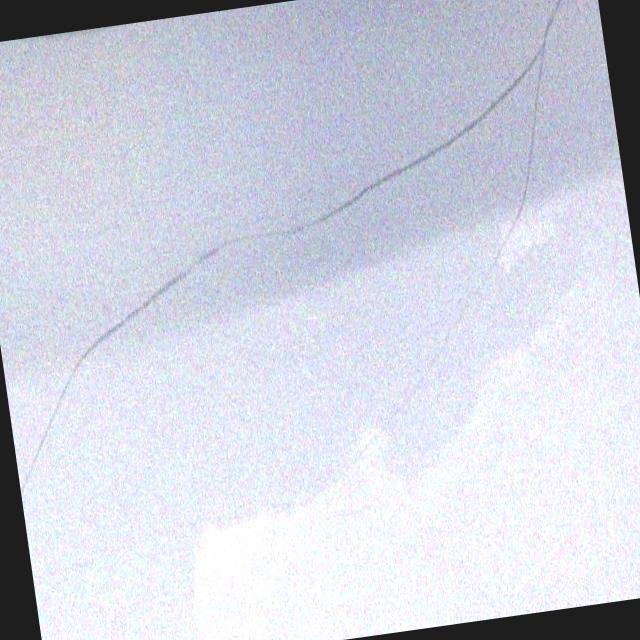crack: (152, 250, 534, 618), (72, 100, 510, 355)
